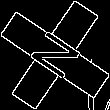N_SE: (22, 24, 88, 86)
